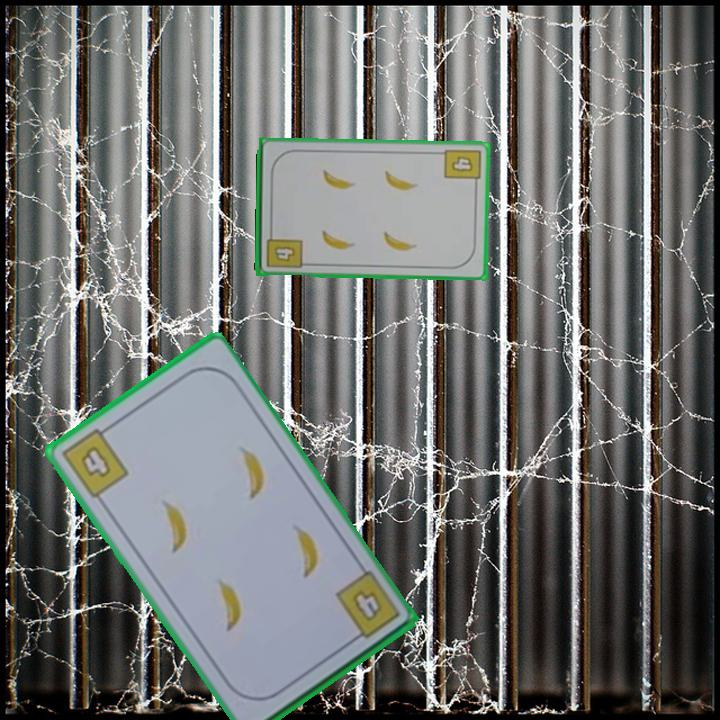4b: (57, 421, 131, 502), (331, 567, 403, 647), (262, 227, 305, 271), (441, 145, 483, 189)
